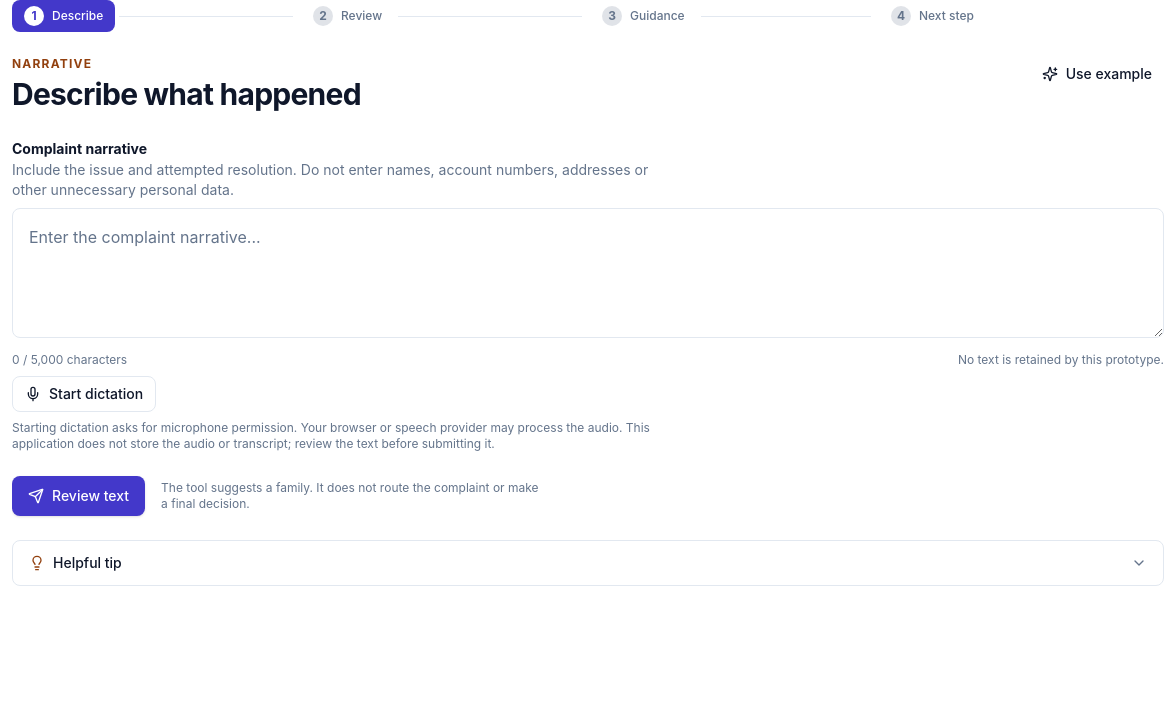
Test case: ClassificationPage › recovers safely when microphone permission is denied
What coordinates should you click on to do the following:
click the button "Start dictation"
I would click on:
 (84, 394)
Its box is [12,376,156,412].
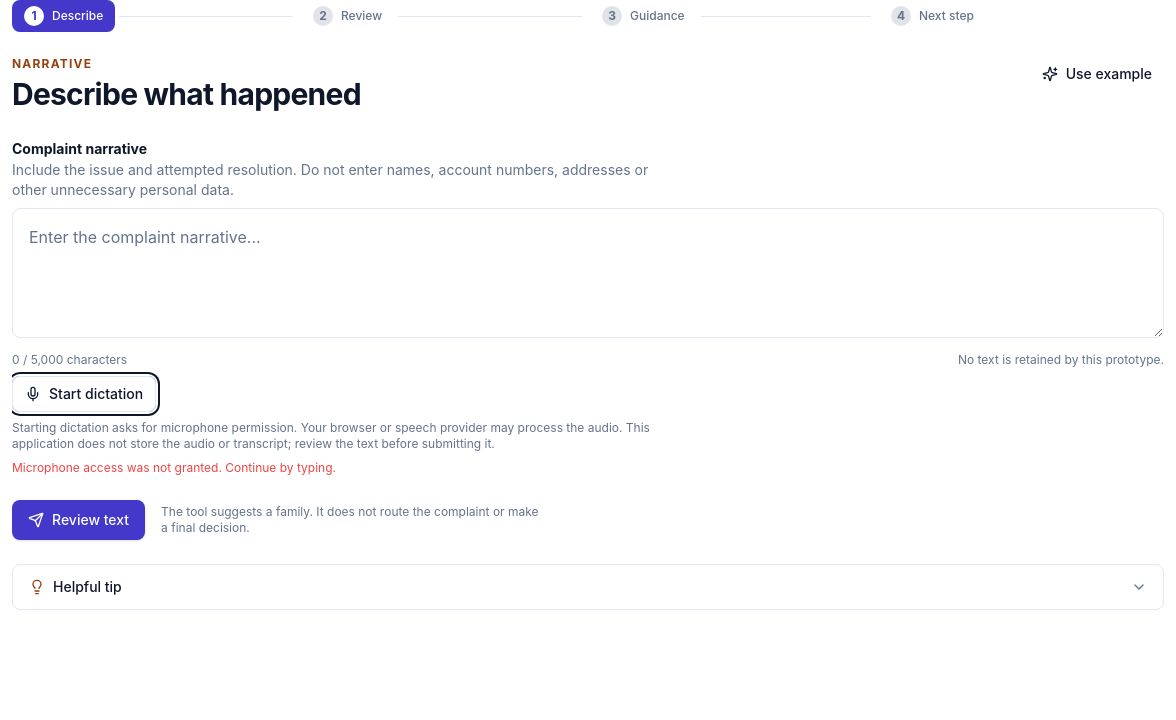
Expected: the text box labelled "Complaint narrative" is enabled, [12,208,1164,338]
Expected: the message reads "Microphone access was not granted. Continue by typing.", [12,460,336,475]
